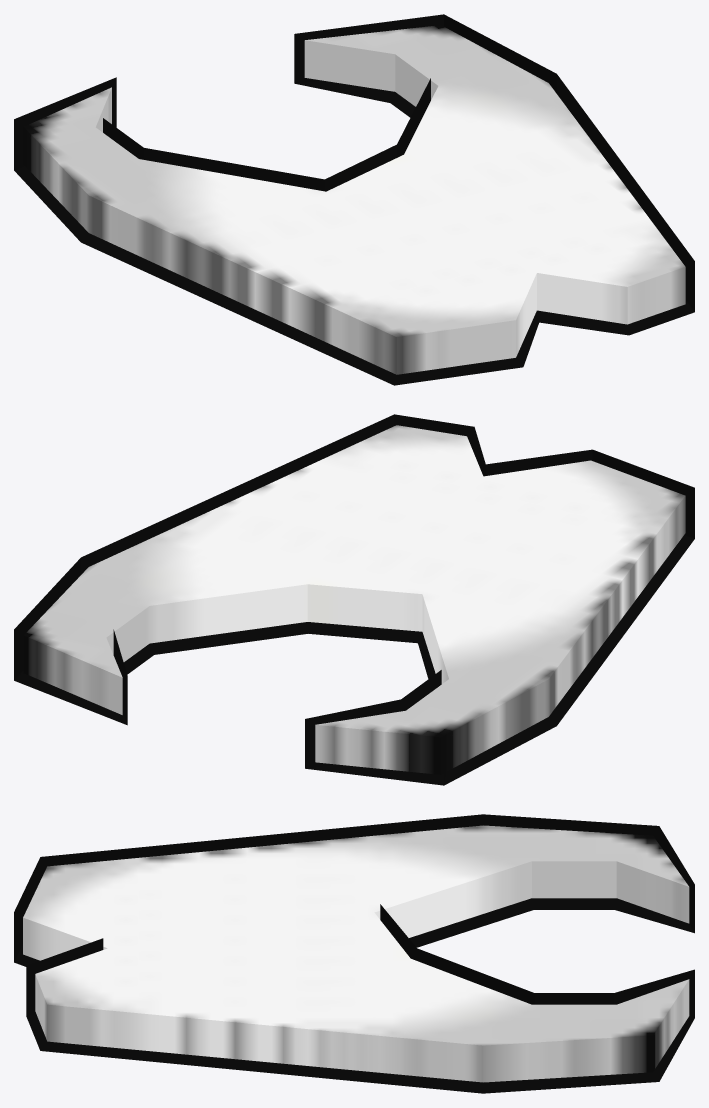
File: Item_Apparel_BasicShirt_Things_Pawn_Humanlike_Apparel_ShirtBasic_ShirtBasic_Male.glb
3 views of the same model, one above another, from view 1: azimuth 30°, elevation 25°; view 2: azimuth 150°, elevation 25°; view 3: azimuth 270°, elevation 25° (orthographic).
Visible parts, largest first — view 1: Body, Outline; view 2: Body, Outline; view 3: Body, Outline.
Part boxes in pixels (box(x1,y1,x2,y2)): Body: box(23, 25, 685, 374); Outline: box(14, 14, 694, 385); Body: box(23, 425, 685, 774); Outline: box(14, 414, 694, 785); Body: box(23, 825, 689, 1082); Outline: box(14, 814, 694, 1093).
Size of the model in its own units: 0.3475 by 0.0407 by 0.4392.
Materials: 2 (1 with a texture image).
